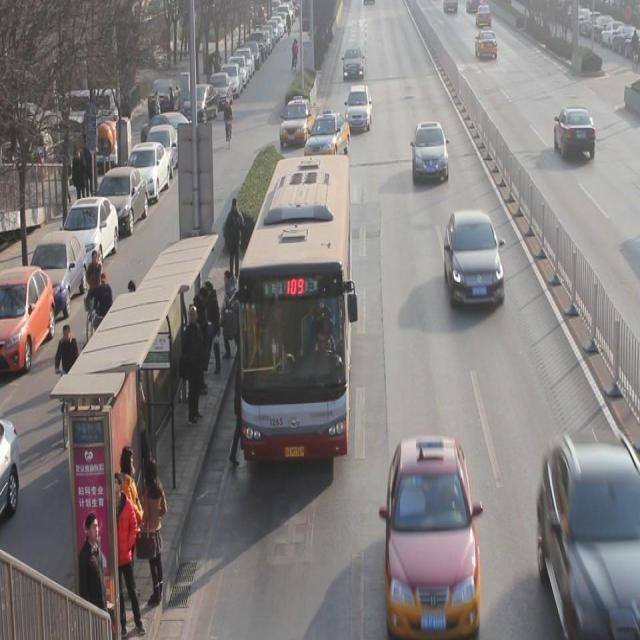car: (538, 433, 640, 624), (386, 433, 481, 624), (444, 208, 504, 308), (412, 118, 449, 182), (305, 109, 351, 160), (553, 105, 596, 157), (280, 96, 318, 146), (347, 82, 372, 129), (342, 43, 364, 79), (475, 25, 498, 58)
van: (235, 152, 349, 457)
